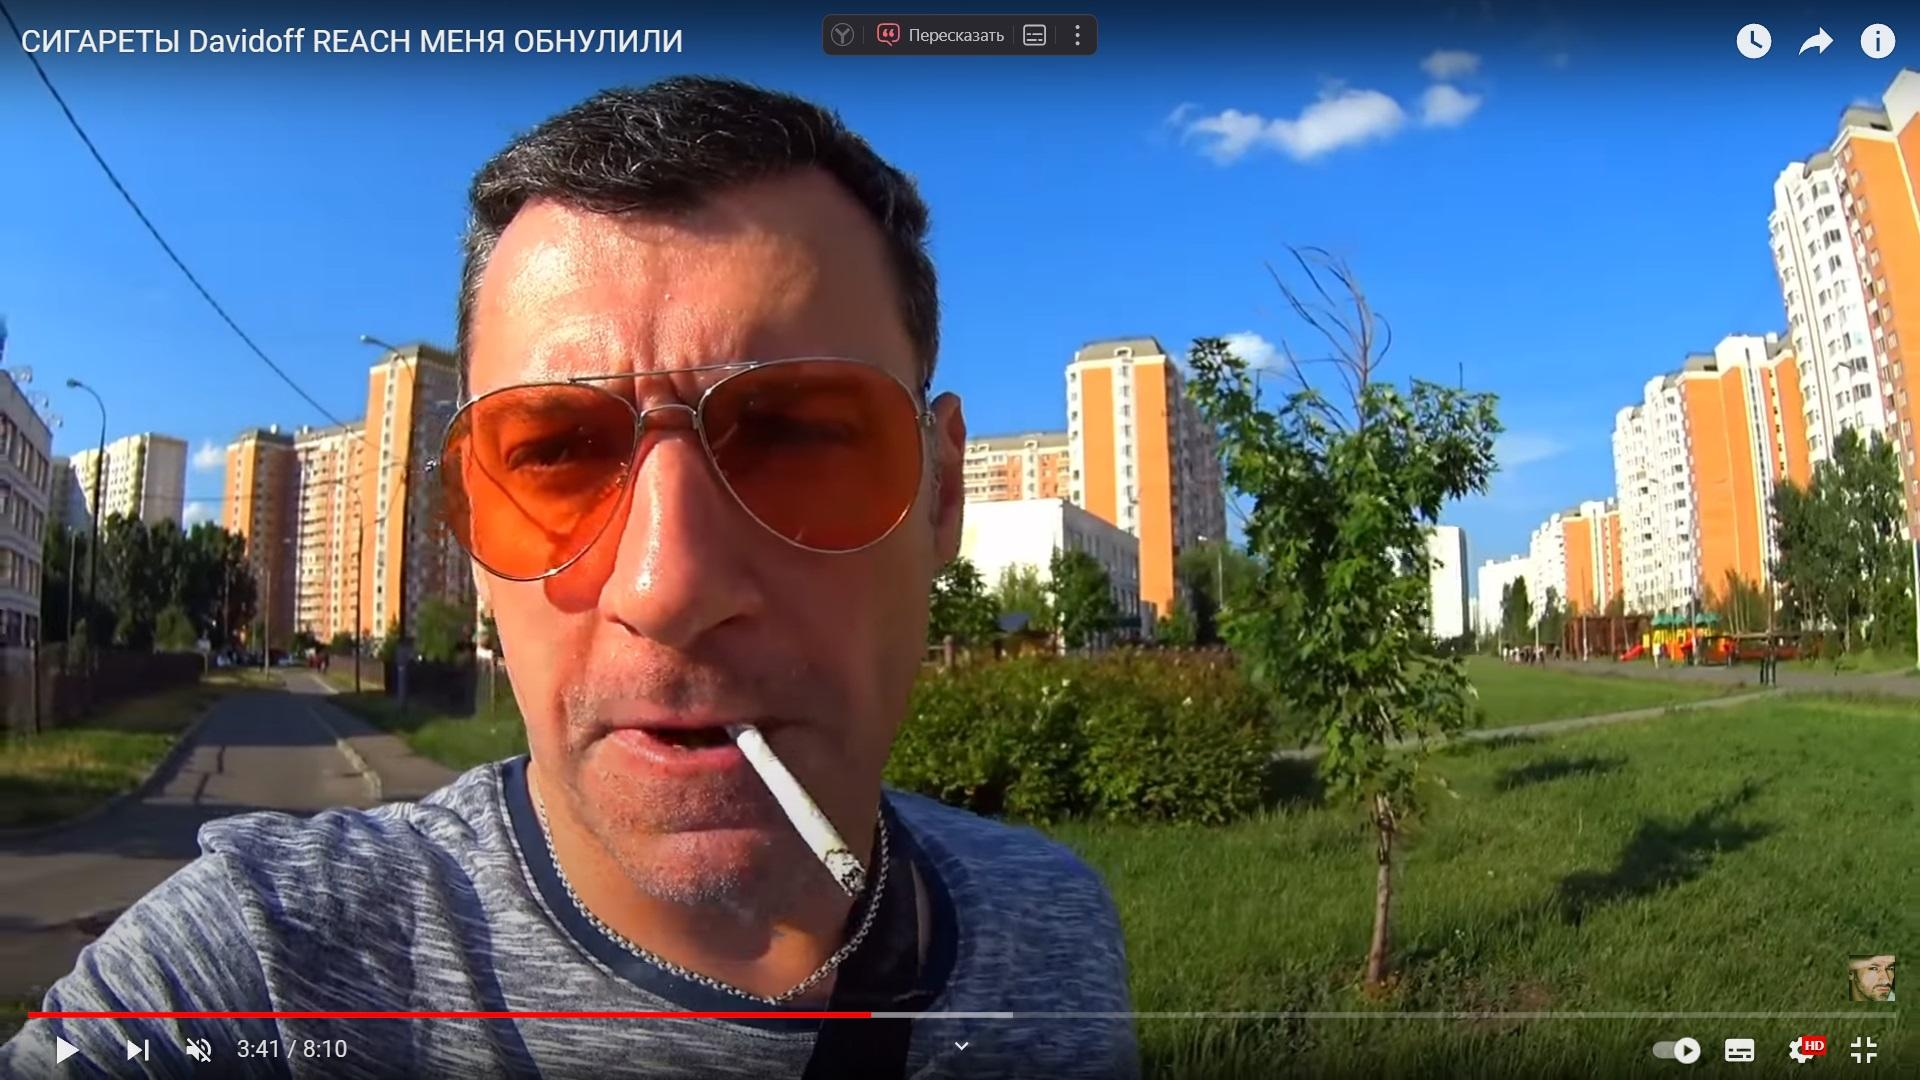cigarette: (728, 724, 866, 897)
